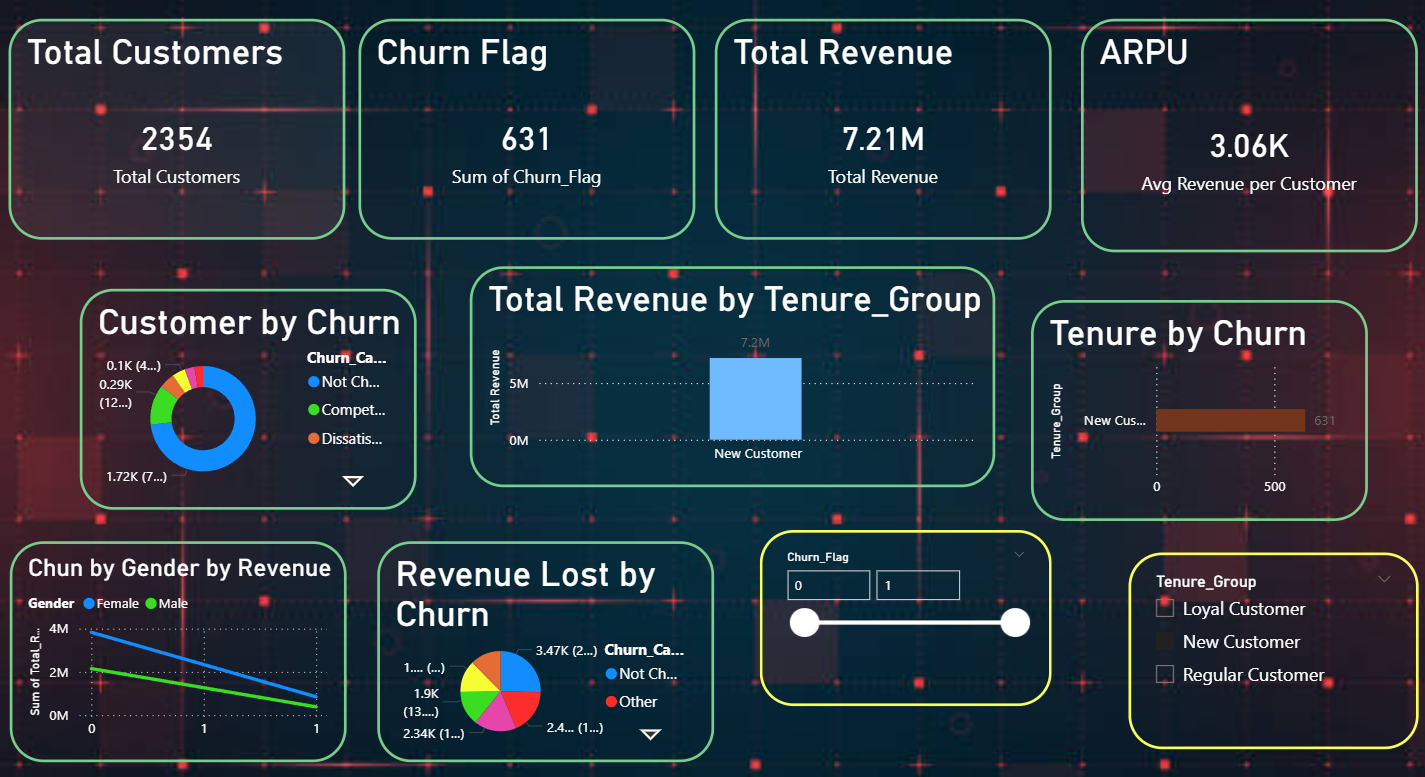

What the dashboard file says about the page in this screenshot:
{"tool":"powerbi","page":{"name":"Executive Overview dashboard 1","canvas":[1280,720],"ordinal":0},"visuals":[{"type":"card","title":"Total Customers","fields":{"Values":["Customer_Data csv (2).Total Customers"]},"box":[11.7,21.7,300,196.7],"z":0},{"type":"card","title":"Churn Flag","fields":{"Values":["Sum(Customer_Data csv (2).Churn_Flag)"]},"box":[323.3,21.7,300,196.7],"z":1000},{"type":"card","title":"Total Revenue","fields":{"Values":["Customer_Data csv (2).Total Revenue"]},"box":[640,21.7,300,196.7],"z":2000},{"type":"card","title":"ARPU","fields":{"Values":["Customer_Data csv (2).Avg Revenue per Customer"]},"box":[966.7,21.7,300,208.3],"z":3000},{"type":"donutChart","title":"Customer by Churn","fields":{"Y":["CountNonNull(Customer_Data csv (2).Customer_ID)"],"Category":["Customer_Data csv (2).Churn_Category"]},"box":[75,261.7,300,196.7],"z":4000},{"type":"clusteredColumnChart","fields":{"Y":["Customer_Data csv (2).Total Revenue"],"Category":["Customer_Data csv (2).Tenure_Group"]},"box":[421.7,241.7,468.3,196.7],"z":5000},{"type":"clusteredBarChart","title":"Tenure by Churn","fields":{"Category":["Customer_Data csv (2).Tenure_Group"],"Y":["Sum(Customer_Data csv (2).Churn_Flag)"]},"box":[921.7,271.7,300,196.7],"z":6000},{"type":"lineChart","title":"Chun by Gender by Revenue","fields":{"Category":["Customer_Data csv (2).Churn_Flag"],"Y":["Sum(Customer_Data csv (2).Total_Revenue)"],"Series":["Customer_Data csv (2).Gender"]},"box":[12,486,300,197],"z":7000},{"type":"pieChart","title":"Revenue Lost by Churn","fields":{"Y":["Customer_Data csv (2).Avg Revenue per Customer"],"Category":["Customer_Data csv (2).Churn_Category"]},"box":[340,486,300,197],"z":8000},{"type":"slicer","fields":{"Values":["Customer_Data csv (2).Churn_Flag"]},"box":[680,476.7,260,156.7],"z":9000},{"type":"slicer","fields":{"Values":["Customer_Data csv (2).Tenure_Group"]},"box":[1008.3,496.7,258.3,175],"z":10000}]}

Visuals, with their boxes in screenshot pixels (x1, y1, x2, y2):
"Total Customers" card: (28, 20, 358, 237)
"Churn Flag" card: (371, 20, 701, 237)
"Total Revenue" card: (720, 20, 1050, 237)
"ARPU" card: (1080, 20, 1410, 250)
"Customer by Churn" donutChart: (97, 285, 428, 501)
clusteredColumnChart - Customer_Data csv (2).Total Revenue x Customer_Data csv (2).Tenure_Group: (479, 262, 995, 479)
"Tenure by Churn" clusteredBarChart: (1030, 296, 1360, 512)
"Chun by Gender by Revenue" lineChart: (28, 532, 358, 749)
"Revenue Lost by Churn" pieChart: (389, 532, 720, 749)
slicer - Customer_Data csv (2).Churn_Flag: (764, 521, 1050, 694)
slicer - Customer_Data csv (2).Tenure_Group: (1125, 543, 1410, 736)
